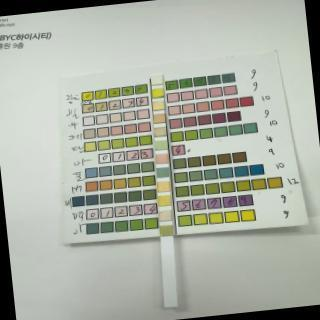mark: (161, 226, 174, 237), (160, 196, 172, 207), (154, 126, 167, 136), (160, 211, 172, 221), (158, 182, 170, 192), (157, 168, 169, 178), (156, 154, 168, 164), (156, 140, 168, 150), (152, 88, 164, 98), (154, 113, 164, 123), (154, 100, 164, 110), (152, 74, 162, 84)
